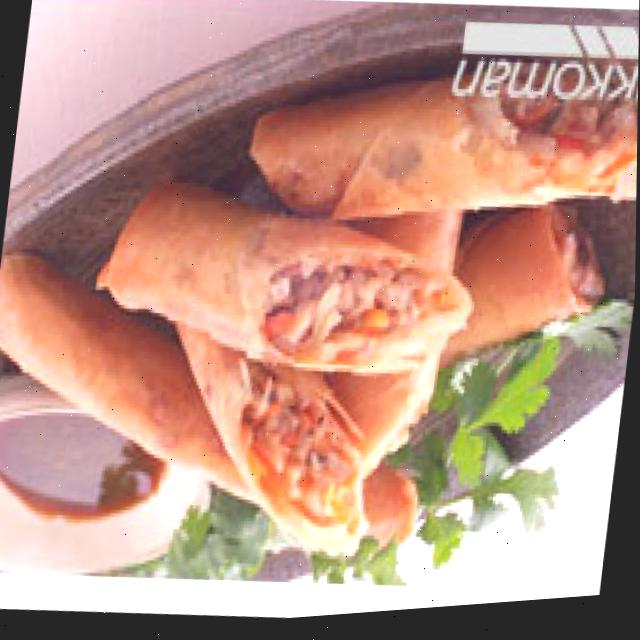鸡蛋料理: (0, 68, 639, 612)
